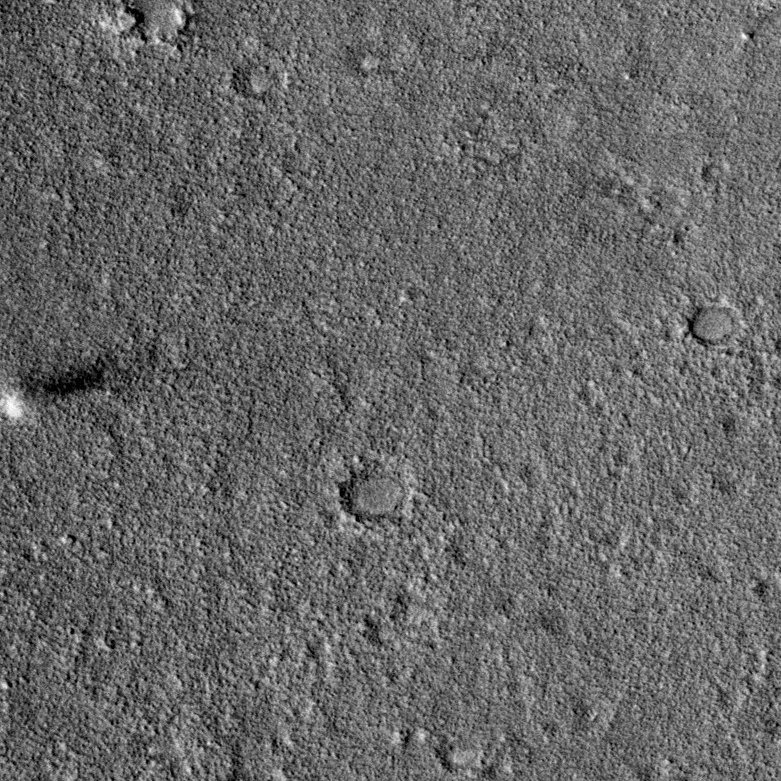dust_devil: (1, 355, 121, 424)
